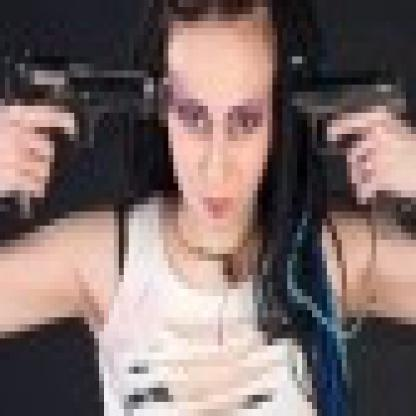gun: (0, 49, 174, 240), (272, 63, 411, 212)
